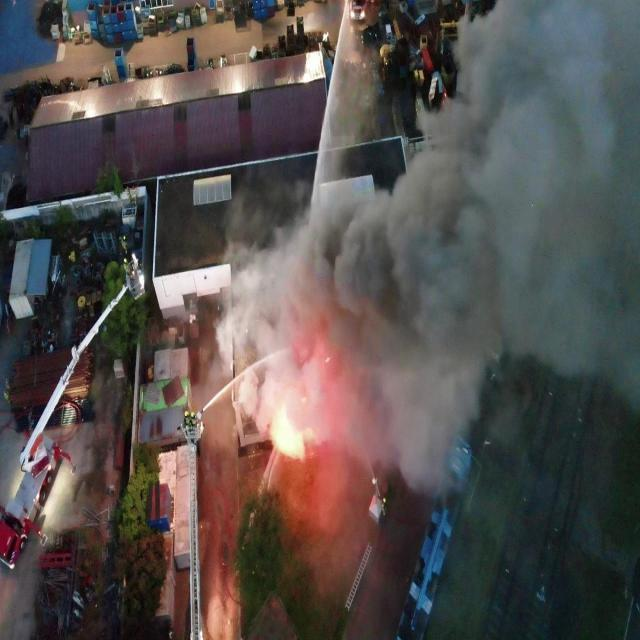Fire: (272, 407, 300, 452), (324, 357, 330, 363)
Smoke: (216, 0, 640, 497)
